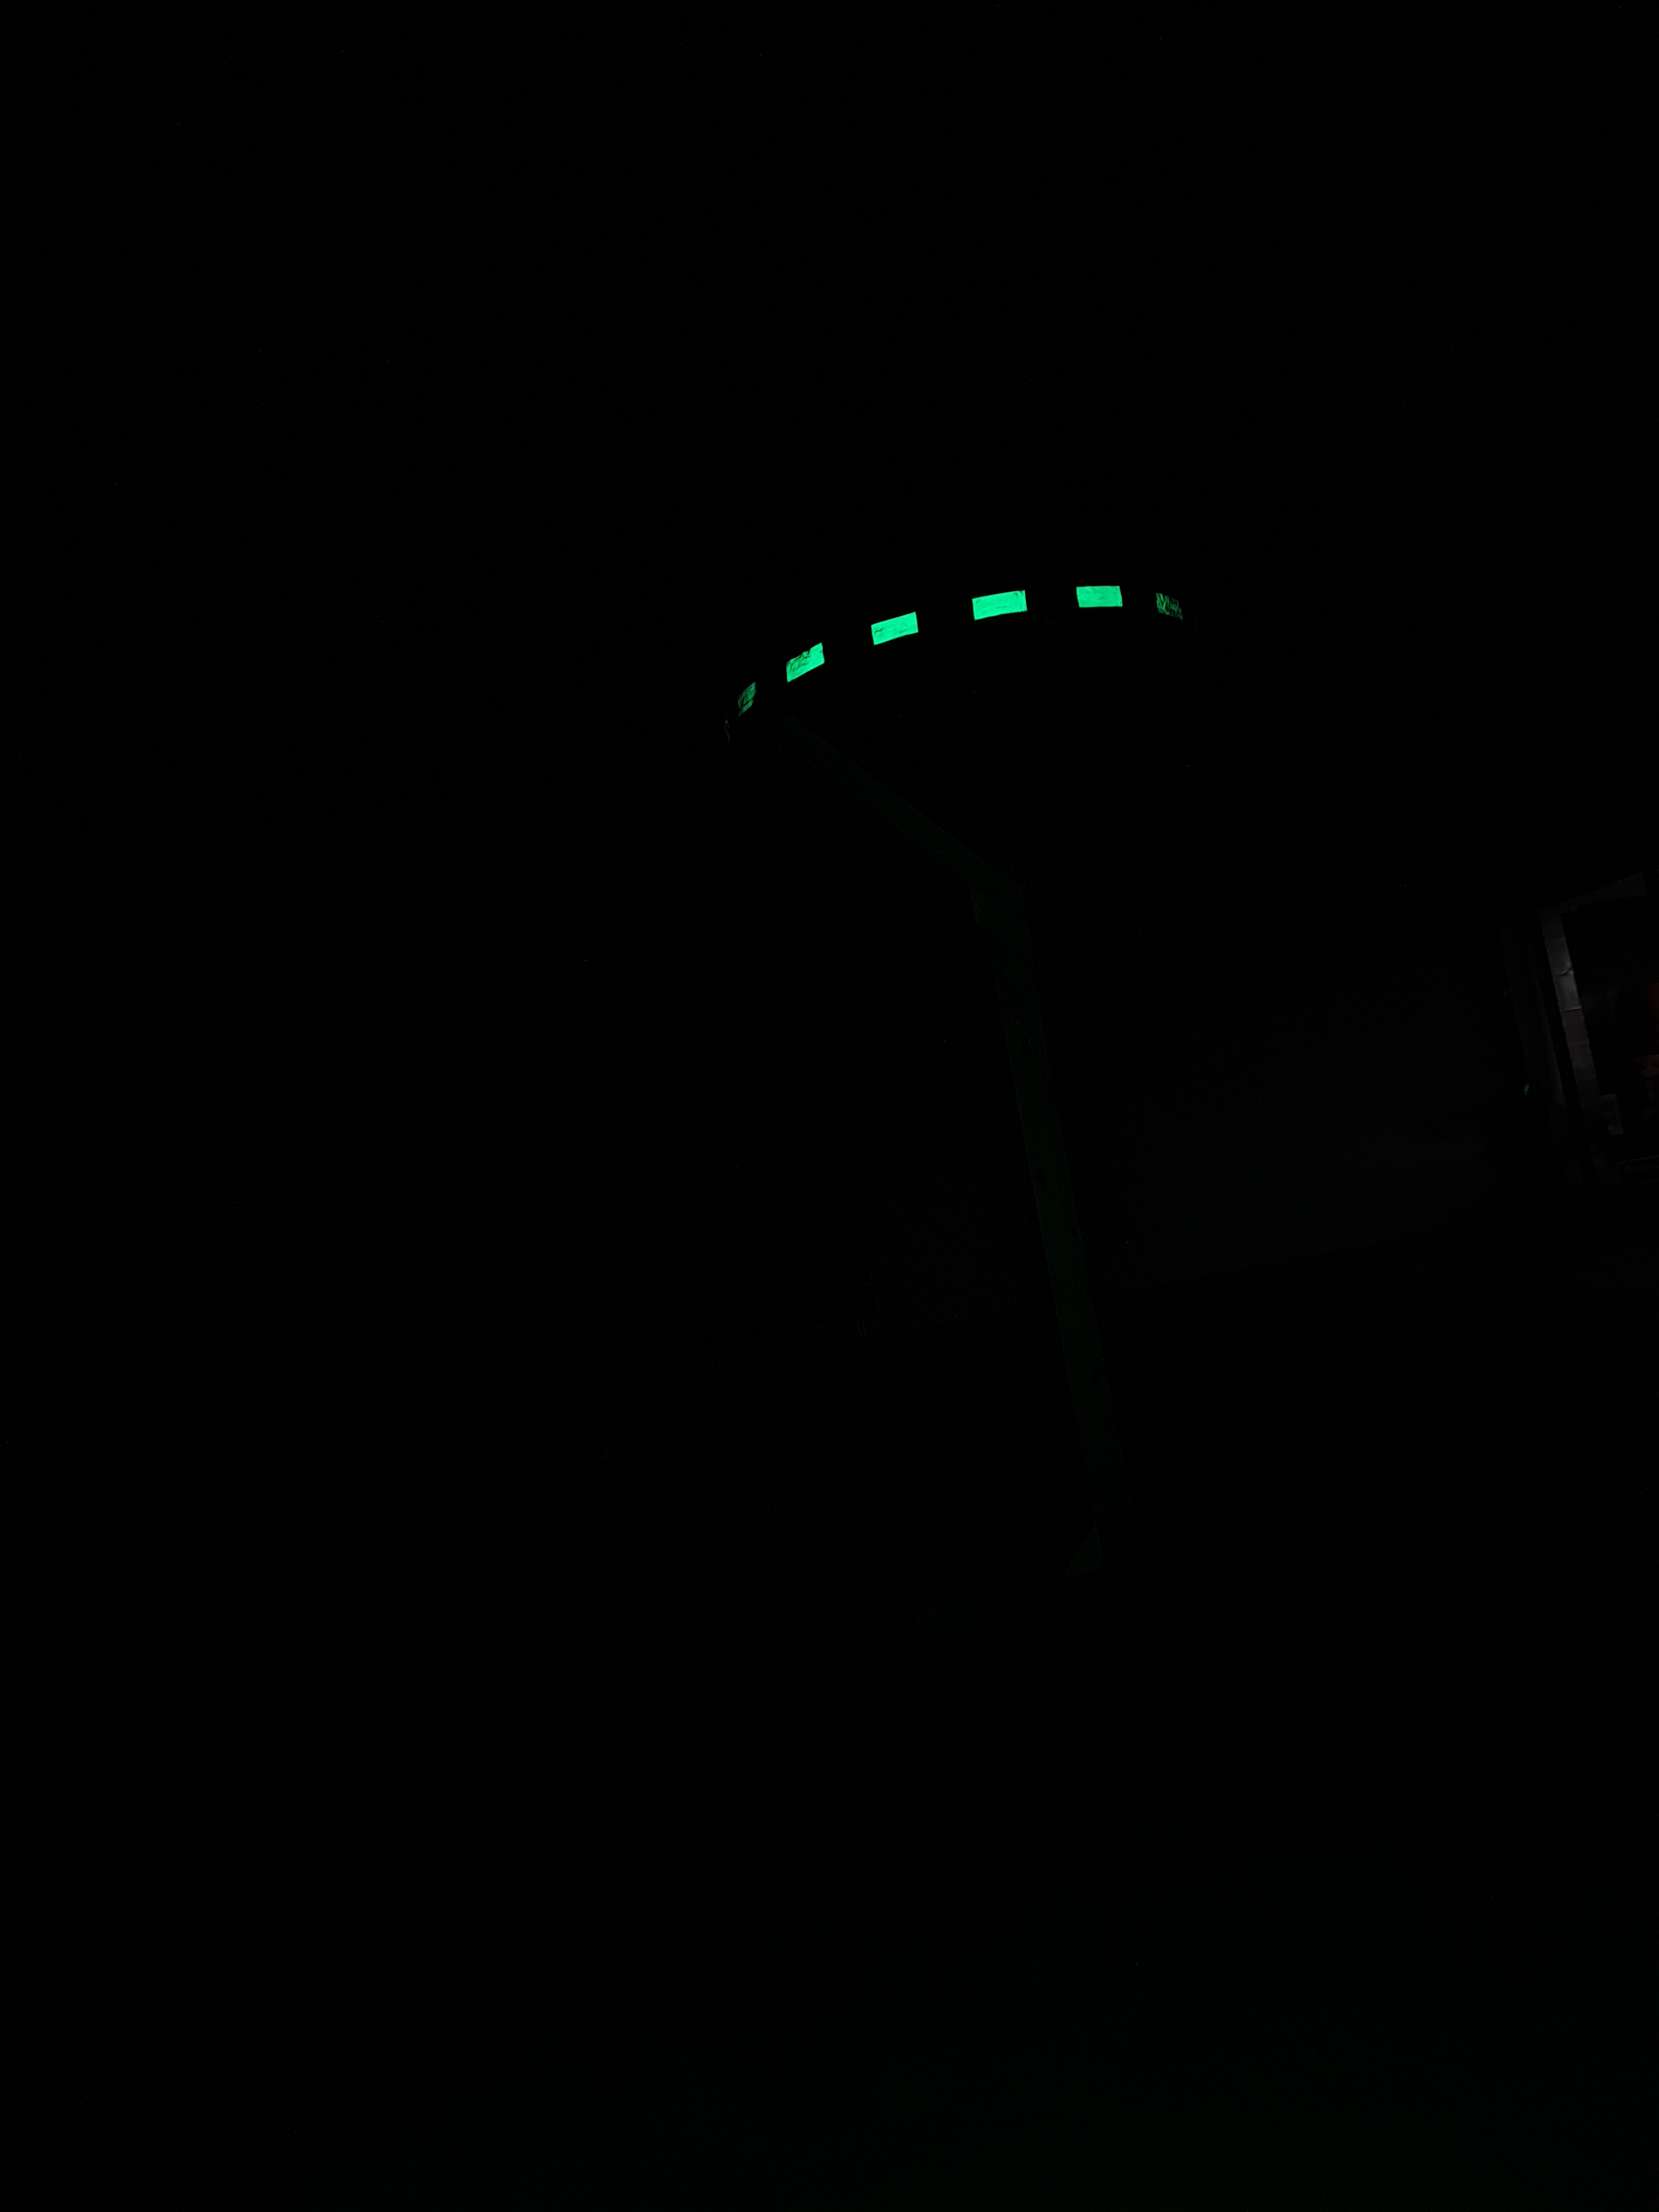hoop: (716, 540, 1218, 737)
